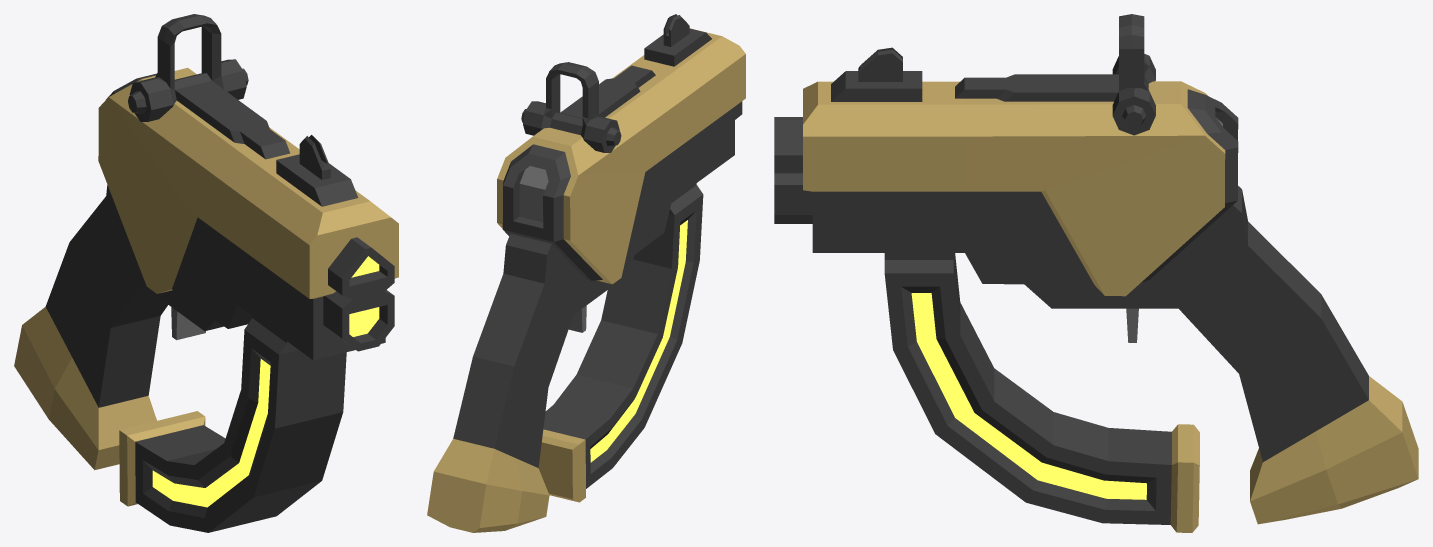
File: SMG.glb
3 views of the same model, side by side, from view 1: azimuth 30°, elevation 25°; view 2: azimuth 150°, elevation 25°; view 3: azimuth 270°, elevation 25° (orthographic). The views are drawn at different scales.
Visible parts, largest first — view 1: MicroSMG; view 2: MicroSMG; view 3: MicroSMG.
Boxes of the visible parts, x1,y1,x2,y2 form: MicroSMG: (14, 14, 398, 532); MicroSMG: (427, 14, 745, 532); MicroSMG: (774, 14, 1418, 532).
Size of the model in its own units: 0.5085 by 2.16 by 2.55.
